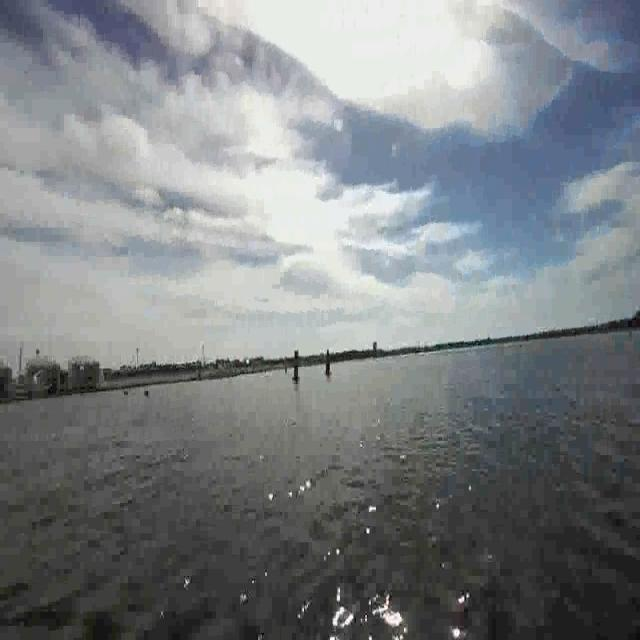green-column-buoy: (291, 350, 300, 380)
red-column-buoy: (326, 350, 334, 377)
